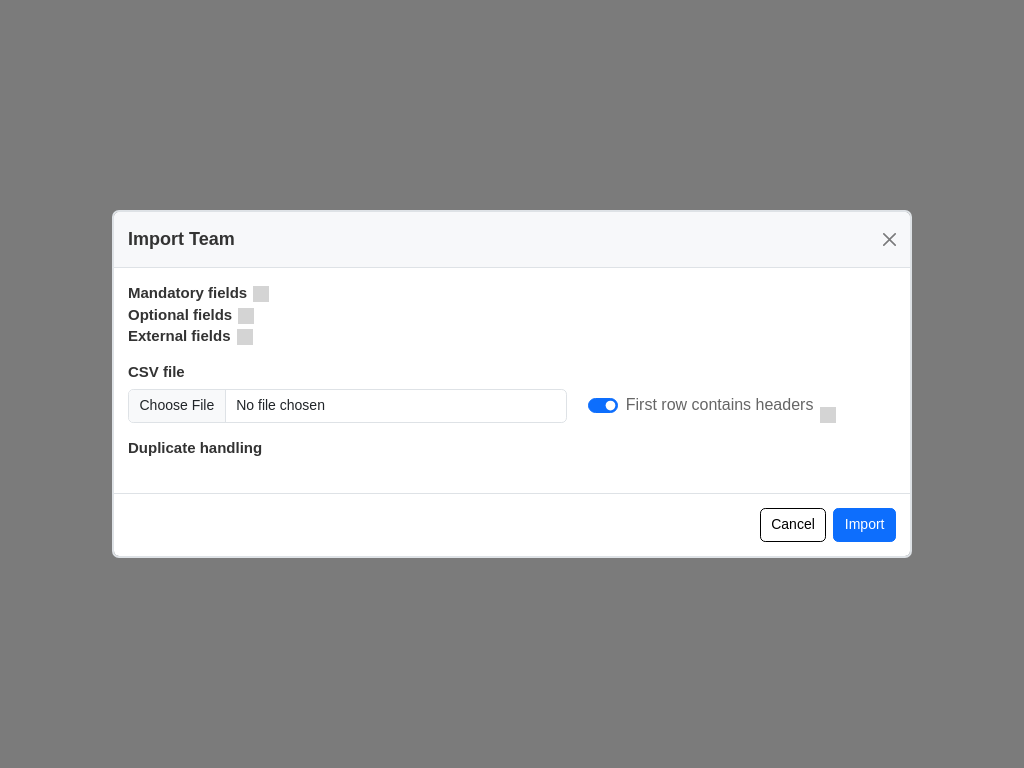
ImportModal › shows status when importing with no file selected
What coordinates should you click on to do the following:
click the button "Import"
I would click on:
 (865, 525)
Its box is [833,508,896,542].
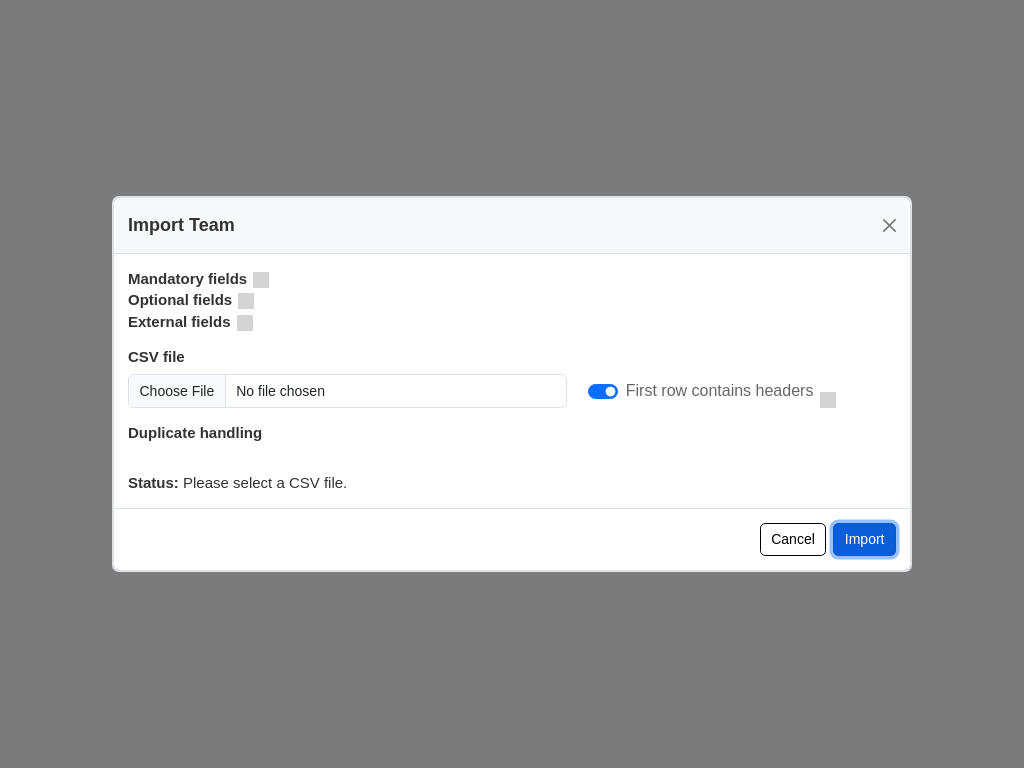
Expected: the text "Status: Please select a CSV file." is shown, [128,474,347,491]
